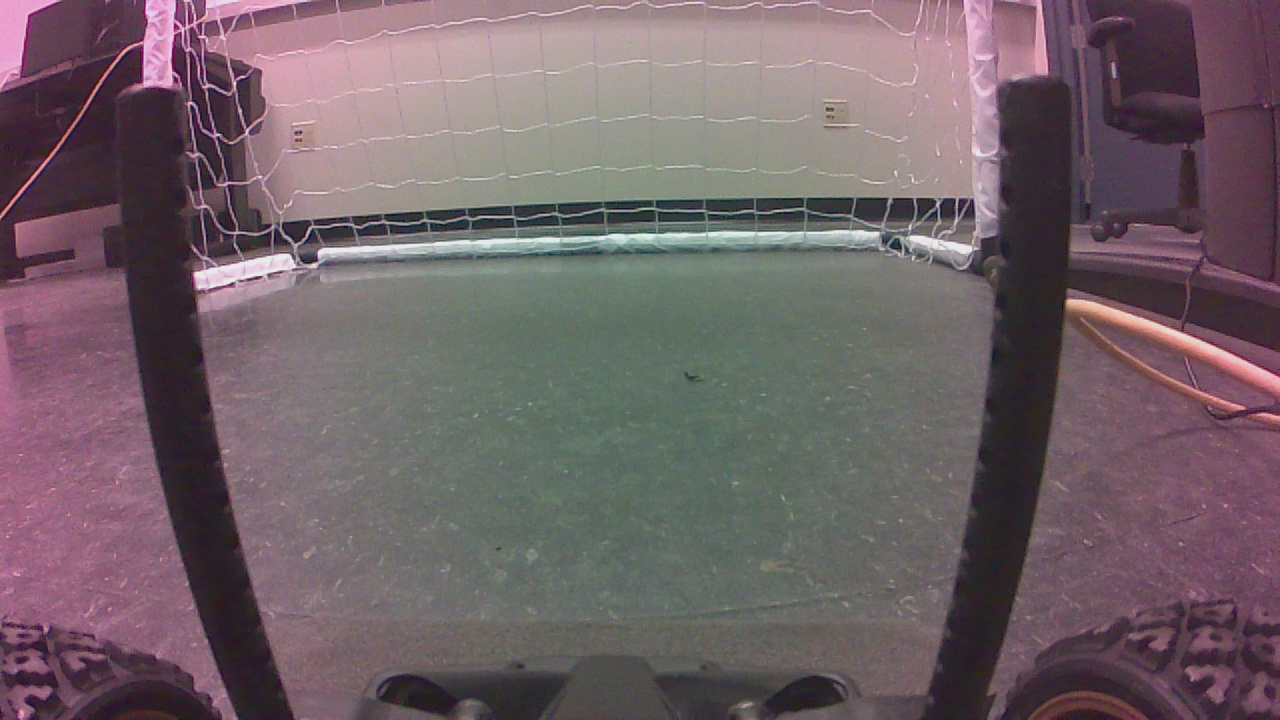goal: (146, 2, 1012, 299)
